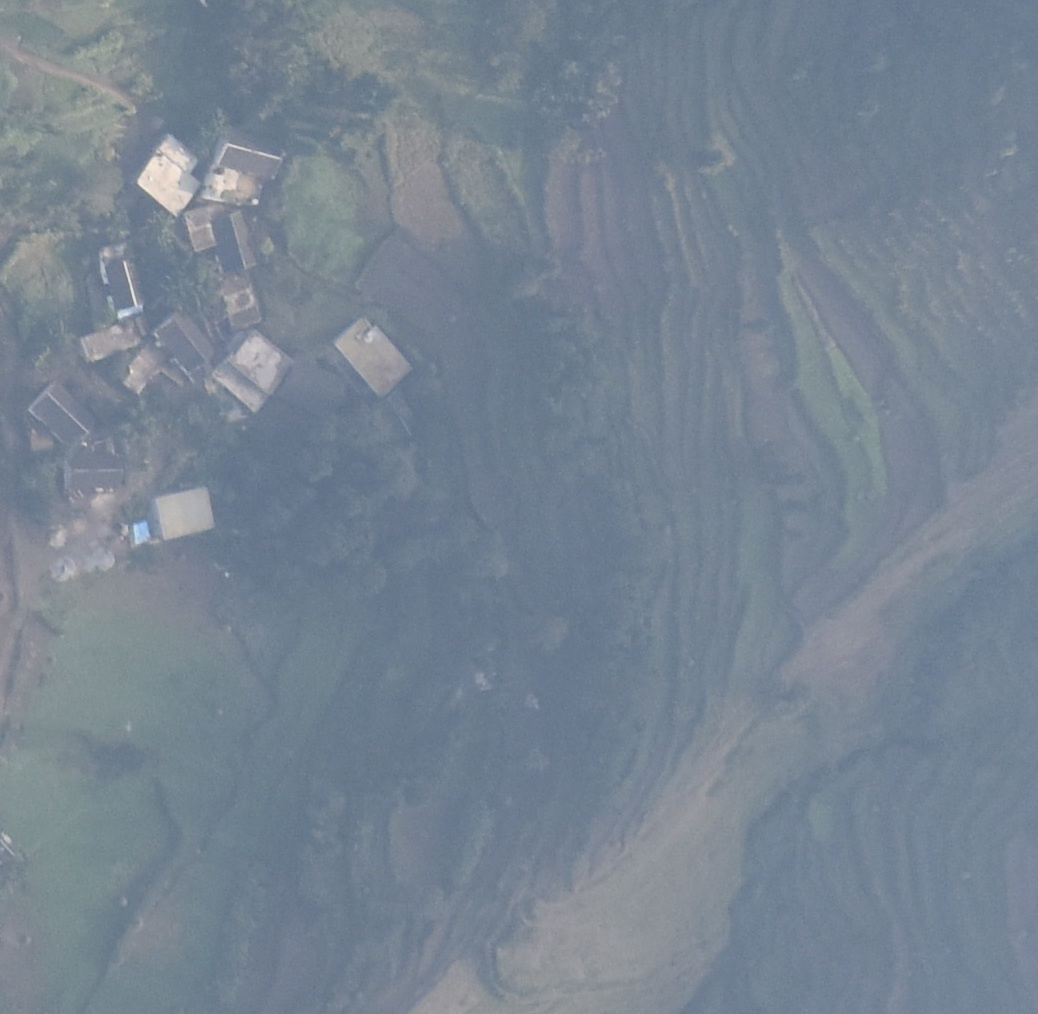building: (334, 315, 417, 397), (215, 330, 294, 412), (135, 134, 202, 217), (26, 381, 98, 449), (212, 124, 287, 181), (154, 308, 216, 372), (209, 208, 267, 273), (154, 485, 217, 544), (62, 453, 133, 492), (80, 321, 148, 360), (105, 258, 150, 309), (184, 208, 218, 252)
